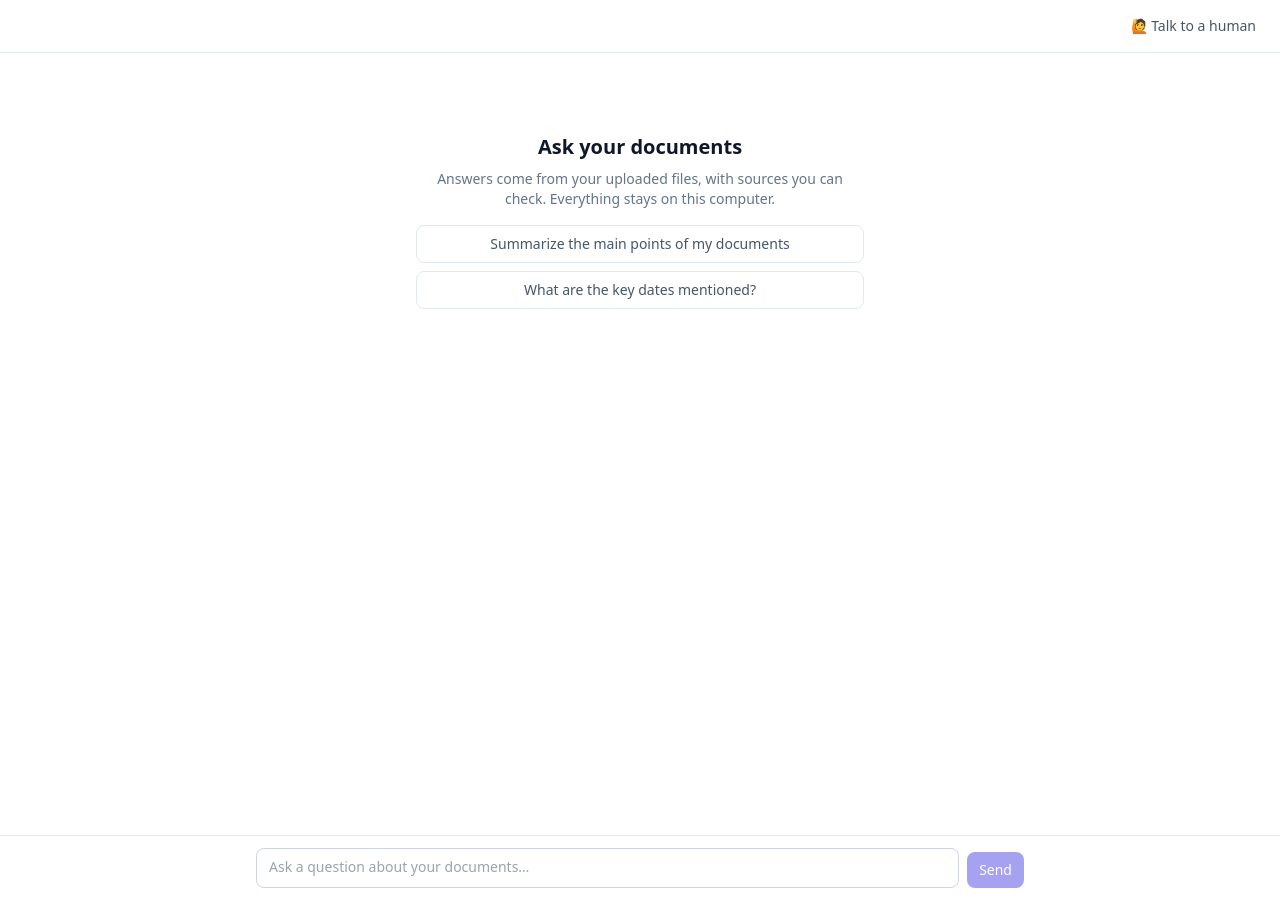
Test: ChatPage › reports an unreachable backend
This screenshot has width=1280, height=900.
Type "hello" into the text box named "Message". click: coordinates (608, 868)
box: [256, 848, 959, 888]
Then press Enter
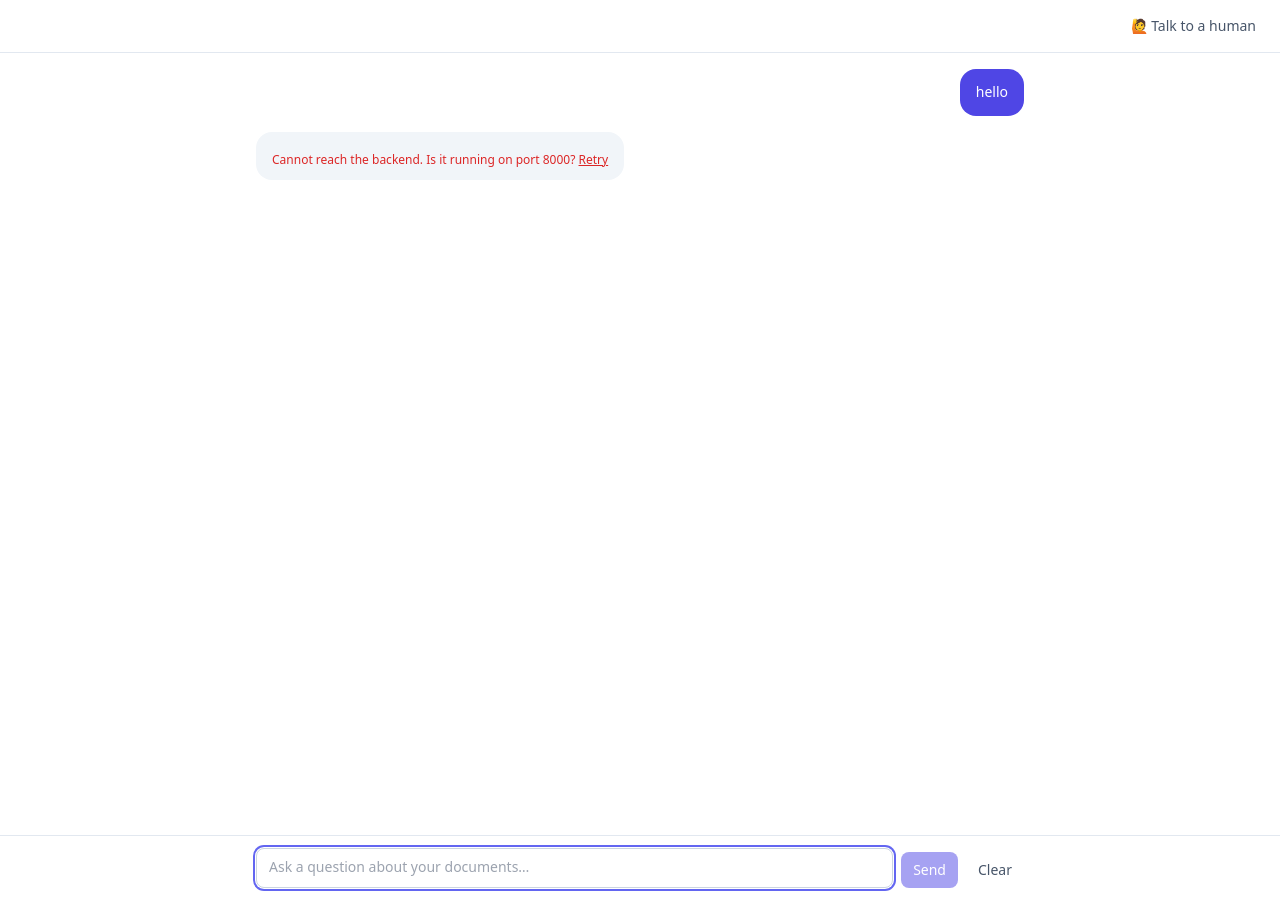
Check: the message shows "Cannot reach the backend", box [272, 151, 575, 168]
